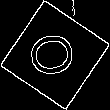O_E: (26, 29, 84, 81)
